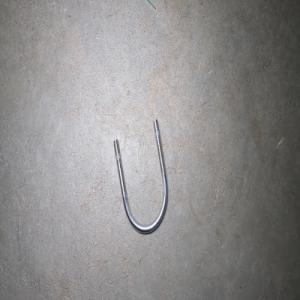ClampPart: (113, 118, 168, 234)
